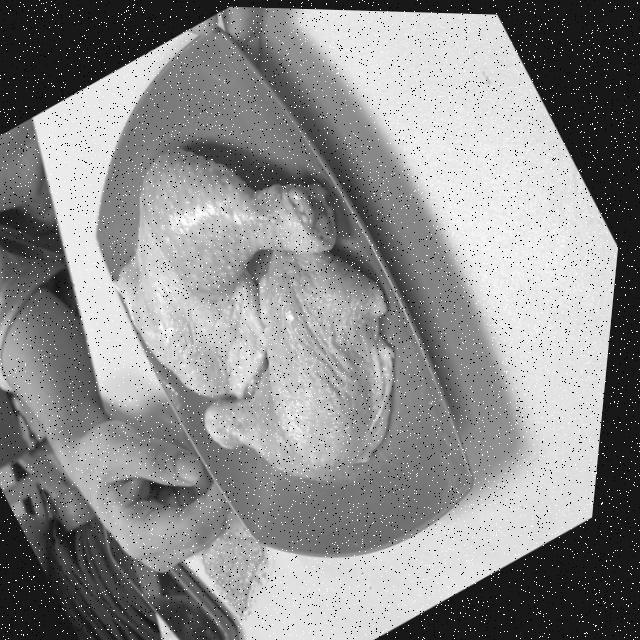quater: (206, 237, 394, 489), (116, 154, 296, 398)
